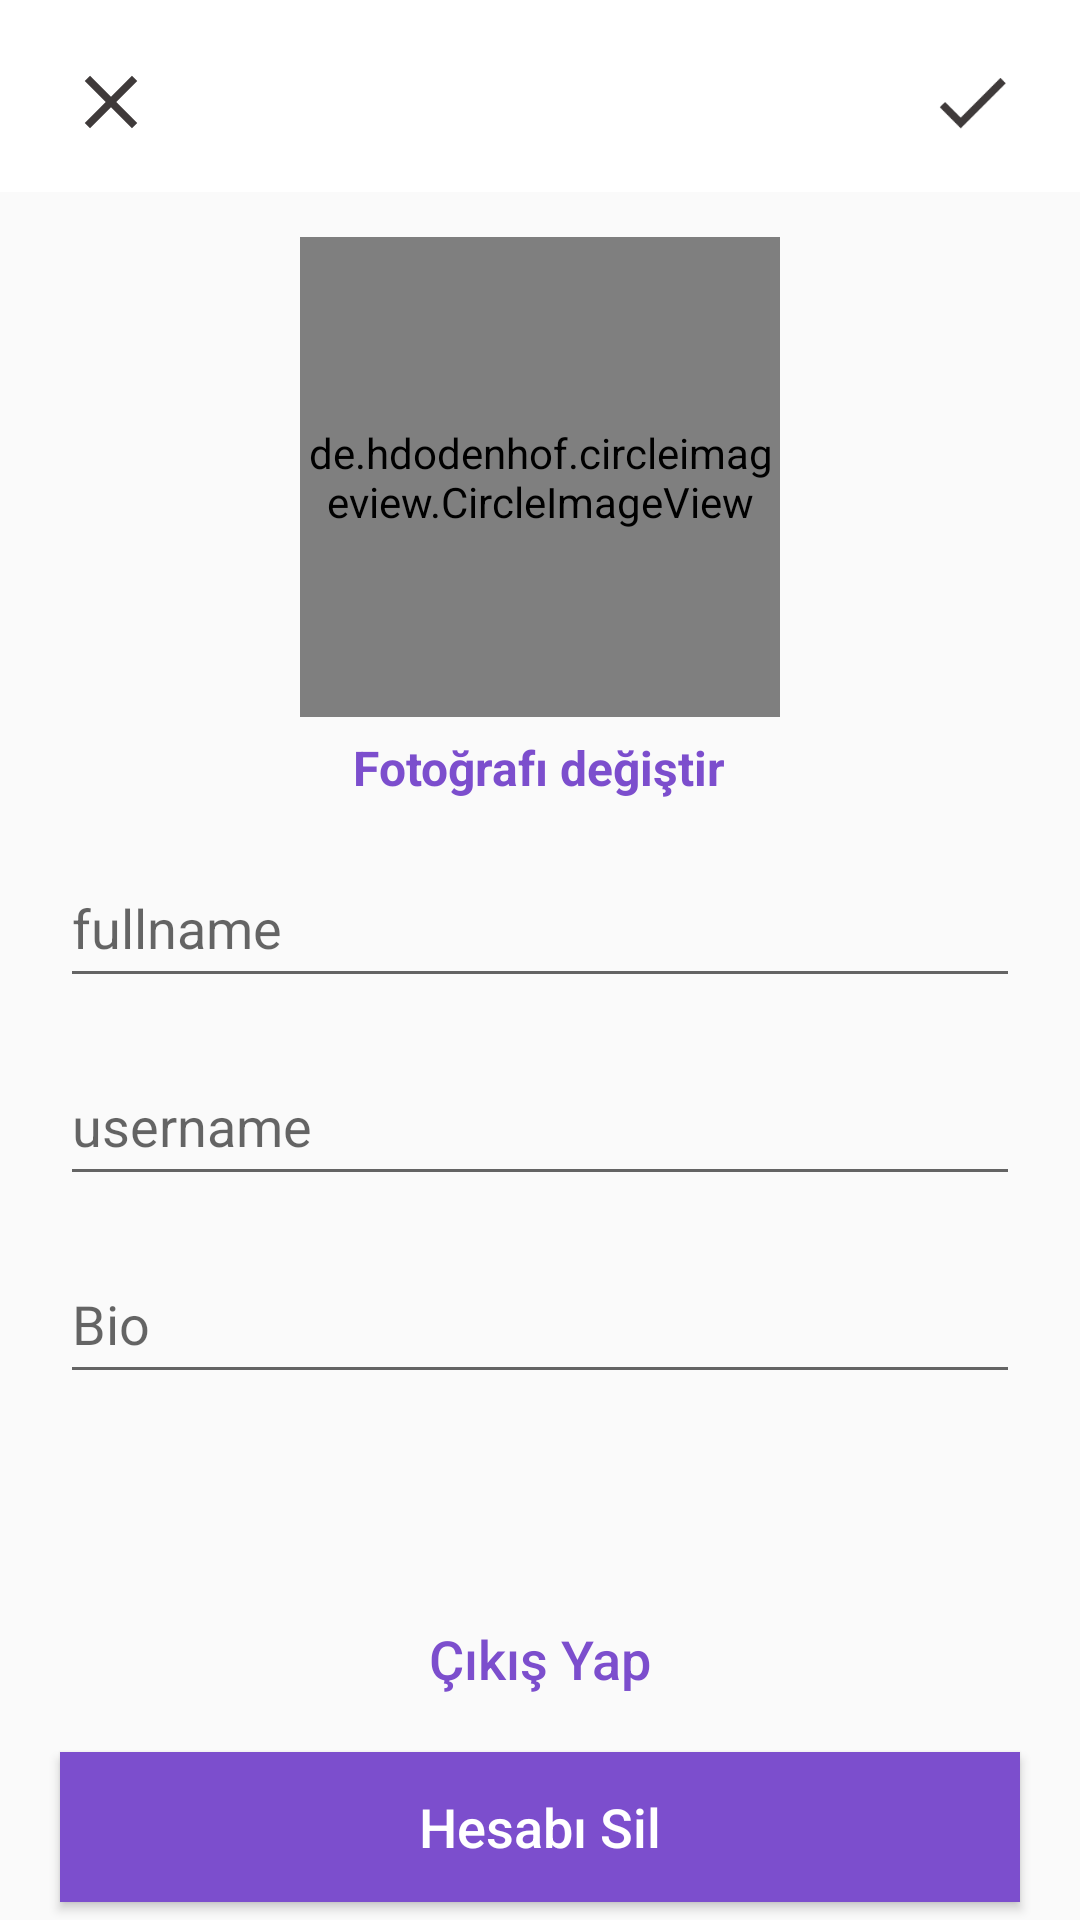

Point at icon controls on the screen. Image size 1080x1920, points as (x,y).
check: (973,103)
close: (111,102)
